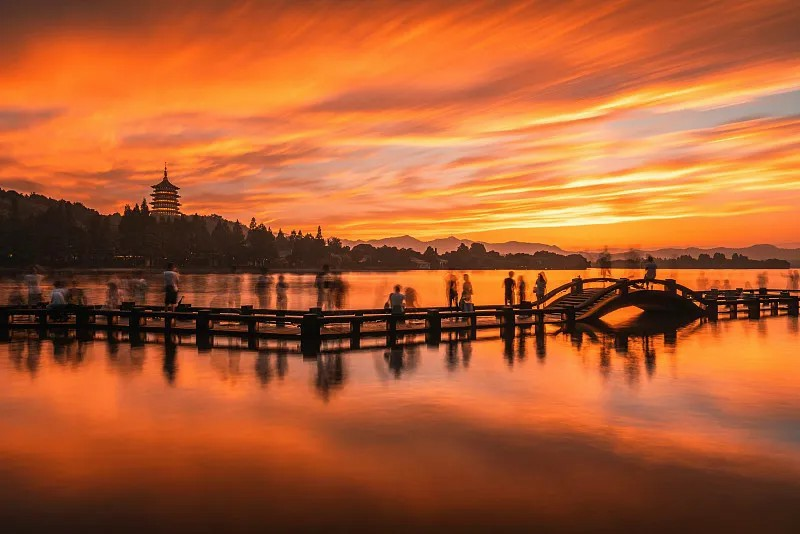Leifeng: (148, 161, 182, 217)
